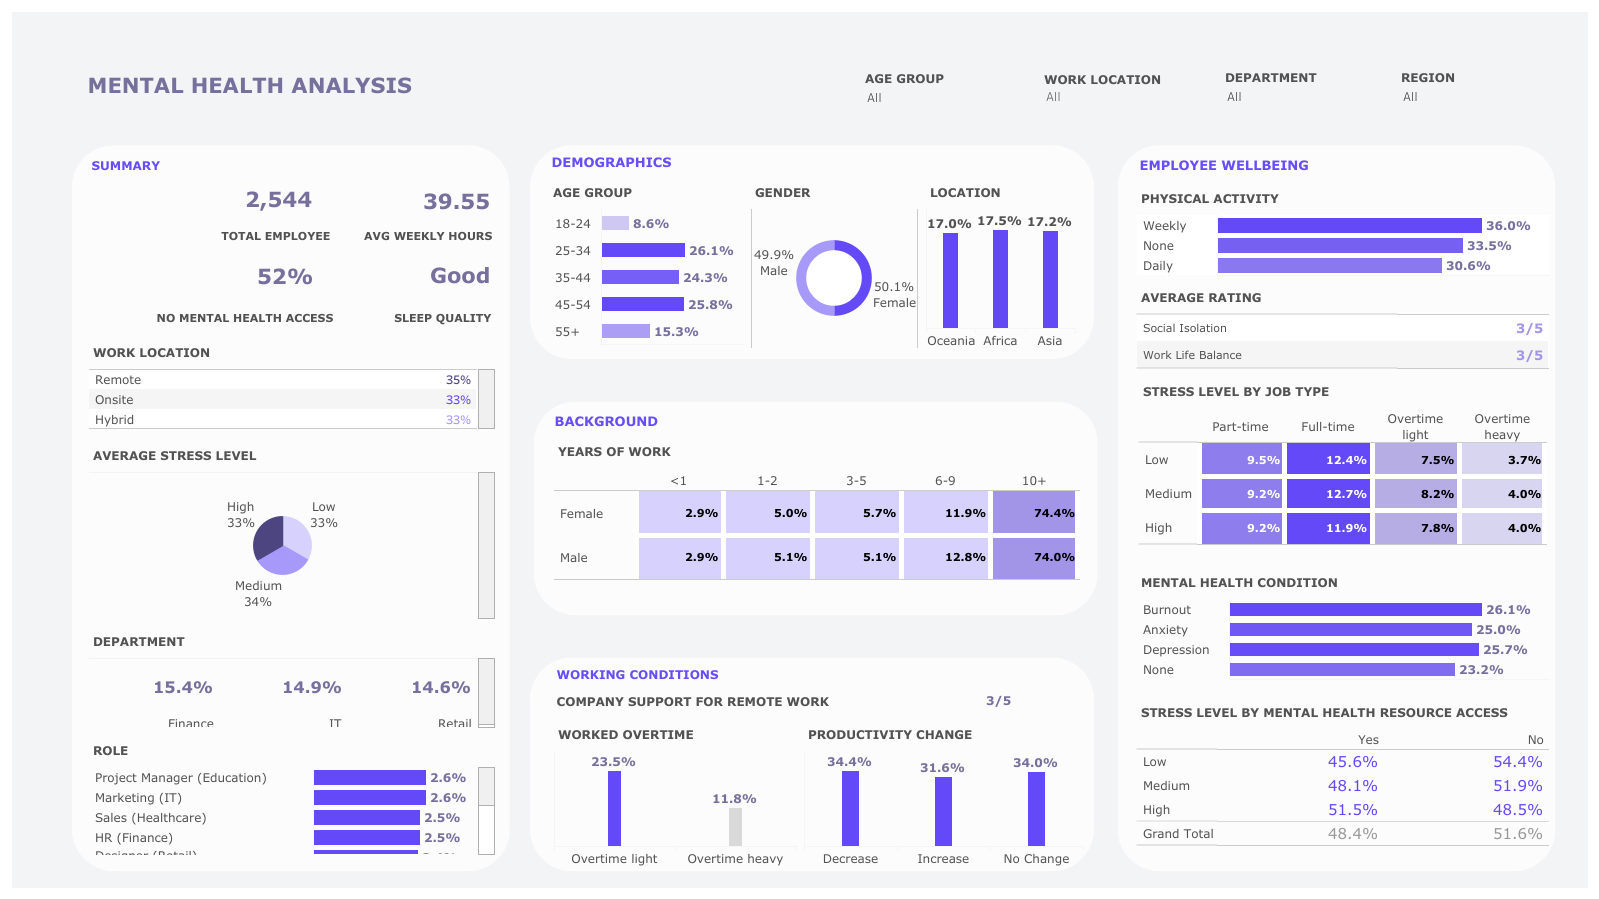

Layout of this report page (visuals, bound fields, positions):
{"tool":"tableau","page":{"name":"Dashboard","canvas":[1600,900],"ordinal":0},"visuals":[{"type":"image","param":"Image/BACK2.png","box":[8,8,1584,884]},{"type":"filter","title":"DEPARTMENT","param":"[federated.0maekqe0reld2u16mzw711kn9f0x].[none:Industry:nk]","box":[1225,68,160,44]},{"type":"filter","title":"LOCATION","param":"[federated.0maekqe0reld2u16mzw711kn9f0x].[none:Region:nk]","box":[1401,68,157,44]},{"type":"text","box":[85,69,330,30]},{"type":"filter","title":"AGE GROUP","param":"[federated.0maekqe0reld2u16mzw711kn9f0x].[none:Calculation_466967025510387713:nk","box":[865,69,160,44]},{"type":"filter","title":"WORK LOCATION","param":"[federated.0maekqe0reld2u16mzw711kn9f0x].[none:Work_Location:nk]","box":[1044,70,160,42]},{"type":"text","box":[1133,148,420,32]},{"type":"text","box":[85,149,414,32]},{"type":"text","box":[545,149,534,24]},{"type":"worksheet","title":"AGE GROUP","mark":"Automatic","rows":["Calculation_466967025510387713"],"cols":["Employee_ID"],"box":[545,173,202,173]},{"type":"worksheet","title":"GENDER","mark":"Pie","rows":["Calculation_466967025522483202","Calculation_466967025522483202"],"box":[747,173,175,177]},{"type":"worksheet","title":"LOCATION","mark":"Automatic","rows":["Employee_ID"],"cols":["Region"],"box":[922,173,157,177]},{"type":"worksheet","title":"PHYSICAL ACTIVITY","mark":"Automatic","rows":["Physical_Activity"],"cols":["Employee_ID"],"box":[1133,180,420,98]},{"type":"worksheet","title":"TOTAL EMPLOYEE","mark":"Automatic","box":[85,181,236,39]},{"type":"worksheet","title":"AVG HOURS PER WEEK","mark":"Automatic","box":[321,181,178,39]},{"type":"text","box":[85,220,252,30]},{"type":"text","box":[337,220,162,30]},{"type":"worksheet","title":"ACCESS TO MENTAL HEALTH RESOURCES","mark":"Automatic","box":[85,250,237,52]},{"type":"worksheet","title":"SLEEP QUALITY","mark":"Automatic","box":[322,250,177,52]},{"type":"worksheet","title":"AVERAGE RATING","mark":"Automatic","box":[1133,278,420,94]},{"type":"text","box":[85,302,255,30]},{"type":"text","box":[340,302,159,30]},{"type":"worksheet","title":"WORK LOCATION","mark":"Automatic","rows":["Work_Location"],"box":[85,334,414,99]},{"type":"worksheet","title":"STRESS LEVEL BY JOB TYPE","mark":"Square","rows":["Stress_Level"],"cols":["Calculation_259027386856960000"],"box":[1133,372,420,191]},{"type":"text","box":[548,408,538,24]},{"type":"worksheet","title":"YEARS OF WORK","mark":"Square","rows":["Gender"],"cols":["Calculation_941956048748462080"],"box":[548,432,538,153]},{"type":"worksheet","title":"AVG STRESS LEVEL","mark":"Pie","box":[85,437,414,186]},{"type":"worksheet","title":"MENTAL HEALTH CONDITION","mark":"Automatic","rows":["Mental_Health_Condition"],"cols":["Employee_ID"],"box":[1133,563,420,130]},{"type":"worksheet","title":"DEPARTMENT","mark":"Automatic","cols":["Industry"],"box":[85,623,414,109]},{"type":"text","box":[550,662,537,23]},{"type":"text","box":[550,685,361,30]},{"type":"worksheet","title":"COMPANY SUPPORT FOR REMOTE WORK","mark":"Automatic","box":[911,685,176,30]},{"type":"worksheet","title":"STRESS LEVEL BY MENTAL HEALTH RESOURCE ACCESS (2)","mark":"Automatic","rows":["Stress_Level"],"cols":["Access_to_Mental_Health_Resources"],"box":[1133,693,420,155]},{"type":"worksheet","title":"WORKED OVERTIME","mark":"Automatic","cols":["Calculation_259027386856960000"],"box":[550,715,250,155]},{"type":"worksheet","title":"PRODUCTIVITY CHANGE","mark":"Automatic","cols":["Productivity_Change"],"box":[800,715,287,155]},{"type":"worksheet","title":"ROLE","mark":"Automatic","rows":["Calculation_446278615130664961"],"cols":["Employee_ID"],"box":[85,732,414,126]}]}

Visuals, with their boxes in screenshot pixels (x1, y1, x2, y2), scaled from the page's 1600x900 canvas onto the 1599x899 screenshot:
image: locate(8, 8, 1591, 891)
"DEPARTMENT" filter: locate(1224, 68, 1384, 112)
"LOCATION" filter: locate(1400, 68, 1557, 112)
text: locate(85, 69, 415, 99)
"AGE GROUP" filter: locate(864, 69, 1024, 113)
"WORK LOCATION" filter: locate(1043, 70, 1203, 112)
text: locate(1132, 148, 1552, 180)
text: locate(85, 149, 499, 181)
text: locate(545, 149, 1078, 173)
"AGE GROUP" worksheet: locate(545, 173, 747, 346)
"GENDER" worksheet (Pie marks): locate(747, 173, 921, 350)
"LOCATION" worksheet: locate(921, 173, 1078, 350)
"PHYSICAL ACTIVITY" worksheet: locate(1132, 180, 1552, 278)
"TOTAL EMPLOYEE" worksheet: locate(85, 181, 321, 220)
"AVG HOURS PER WEEK" worksheet: locate(321, 181, 499, 220)
text: locate(85, 220, 337, 250)
text: locate(337, 220, 499, 250)
"ACCESS TO MENTAL HEALTH RESOURCES" worksheet: locate(85, 250, 322, 302)
"SLEEP QUALITY" worksheet: locate(322, 250, 499, 302)
"AVERAGE RATING" worksheet: locate(1132, 278, 1552, 372)
text: locate(85, 302, 340, 332)
text: locate(340, 302, 499, 332)
"WORK LOCATION" worksheet: locate(85, 334, 499, 433)
"STRESS LEVEL BY JOB TYPE" worksheet (Square marks): locate(1132, 372, 1552, 562)
text: locate(548, 408, 1085, 432)
"YEARS OF WORK" worksheet (Square marks): locate(548, 432, 1085, 584)
"AVG STRESS LEVEL" worksheet (Pie marks): locate(85, 437, 499, 622)
"MENTAL HEALTH CONDITION" worksheet: locate(1132, 562, 1552, 692)
"DEPARTMENT" worksheet: locate(85, 622, 499, 731)
text: locate(550, 661, 1086, 684)
text: locate(550, 684, 910, 714)
"COMPANY SUPPORT FOR REMOTE WORK" worksheet: locate(910, 684, 1086, 714)
"STRESS LEVEL BY MENTAL HEALTH RESOURCE ACCESS (2)" worksheet: locate(1132, 692, 1552, 847)
"WORKED OVERTIME" worksheet: locate(550, 714, 800, 869)
"PRODUCTIVITY CHANGE" worksheet: locate(800, 714, 1086, 869)
"ROLE" worksheet: locate(85, 731, 499, 857)
